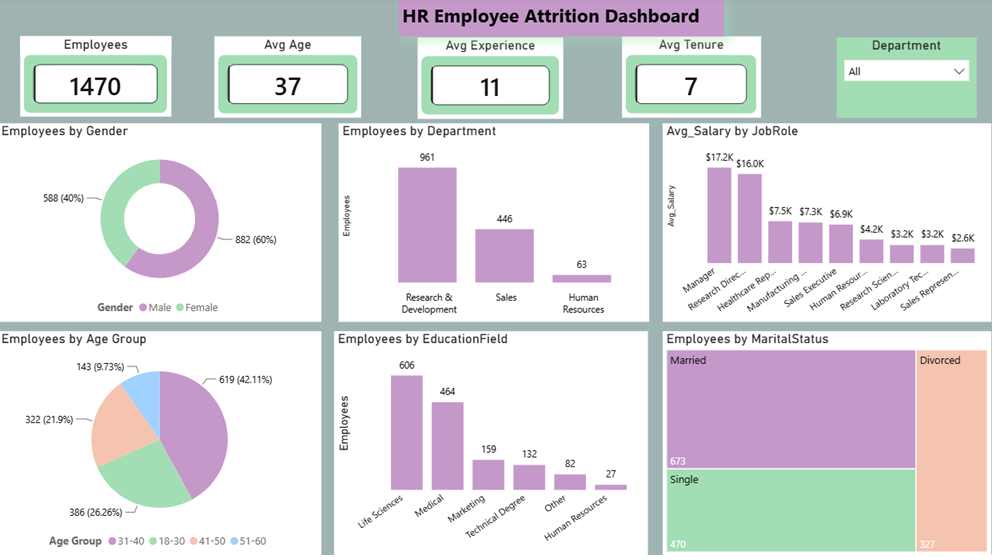

This screenshot's page, from the dashboard's own definition file:
{"tool":"powerbi","page":{"name":"WorkForce_Overview","canvas":[1280,720],"ordinal":1},"visuals":[{"type":"cardVisual","title":"Avg Age","fields":{"Data":["Employees.Avg_Age"]},"box":[279.2,50.9,189,104.7],"z":0},{"type":"cardVisual","title":"Avg Experience","fields":{"Data":["Employees.Avg_Exp"]},"box":[540.9,52.3,187.6,104.7],"z":1000},{"type":"cardVisual","title":"Avg Tenure","fields":{"Data":["Employees.Avg_Tenure"]},"box":[804.1,50.9,178.9,104.7],"z":2000},{"type":"cardVisual","title":"Employees","fields":{"Data":["Employees.Total_Employees"]},"box":[29.1,50.9,194.9,103.2],"z":3000},{"type":"textbox","box":[515.9,1.4,418.8,49.3],"z":4000},{"type":"donutChart","fields":{"Y":["Employees.Total_Employees"],"Category":["Employees.Gender"]},"box":[0,162.9,417.3,255.9],"z":5000},{"type":"columnChart","fields":{"Y":["Employees.Total_Employees"],"Category":["Employees.Department"]},"box":[439.1,162.9,399.9,255.9],"z":6000},{"type":"pieChart","fields":{"Category":["Employees.Age Group"],"Y":["Employees.Total_Employees"]},"box":[0,430.4,417.3,289.4],"z":7000},{"type":"columnChart","fields":{"Category":["Employees.EducationField"],"Y":["Employees.Total_Employees"]},"box":[433.3,430.4,404.2,289.4],"z":8000},{"type":"treemap","fields":{"Group":["Employees.MaritalStatus"],"Values":["Employees.Total_Employees"]},"box":[856.5,430.4,423.2,289.4],"z":9000},{"type":"columnChart","fields":{"Category":["Employees.JobRole"],"Y":["Employees.Avg_Salary"]},"box":[856.5,162.9,423.2,255.9],"z":10000},{"type":"slicer","title":"Department","fields":{"Values":["Employees.Department"]},"box":[1080.4,52.3,180.3,103.2],"z":11000}]}

Visuals, with their boxes in screenshot pixels (x1, y1, x2, y2), scaled from the page's 1280x720 canvas onto the 994x560 screenshot:
"Avg Age" cardVisual: [x1=217, y1=40, x2=364, y2=121]
"Avg Experience" cardVisual: [x1=420, y1=41, x2=566, y2=122]
"Avg Tenure" cardVisual: [x1=624, y1=40, x2=763, y2=121]
"Employees" cardVisual: [x1=23, y1=40, x2=174, y2=120]
textbox: [x1=401, y1=1, x2=726, y2=39]
donutChart - Employees.Total_Employees x Employees.Gender: [x1=0, y1=127, x2=324, y2=326]
columnChart - Employees.Total_Employees x Employees.Department: [x1=341, y1=127, x2=652, y2=326]
pieChart - Employees.Age Group x Employees.Total_Employees: [x1=0, y1=335, x2=324, y2=559]
columnChart - Employees.EducationField x Employees.Total_Employees: [x1=336, y1=335, x2=650, y2=559]
treemap - Employees.MaritalStatus x Employees.Total_Employees: [x1=665, y1=335, x2=993, y2=559]
columnChart - Employees.JobRole x Employees.Avg_Salary: [x1=665, y1=127, x2=993, y2=326]
"Department" slicer: [x1=839, y1=41, x2=979, y2=121]
